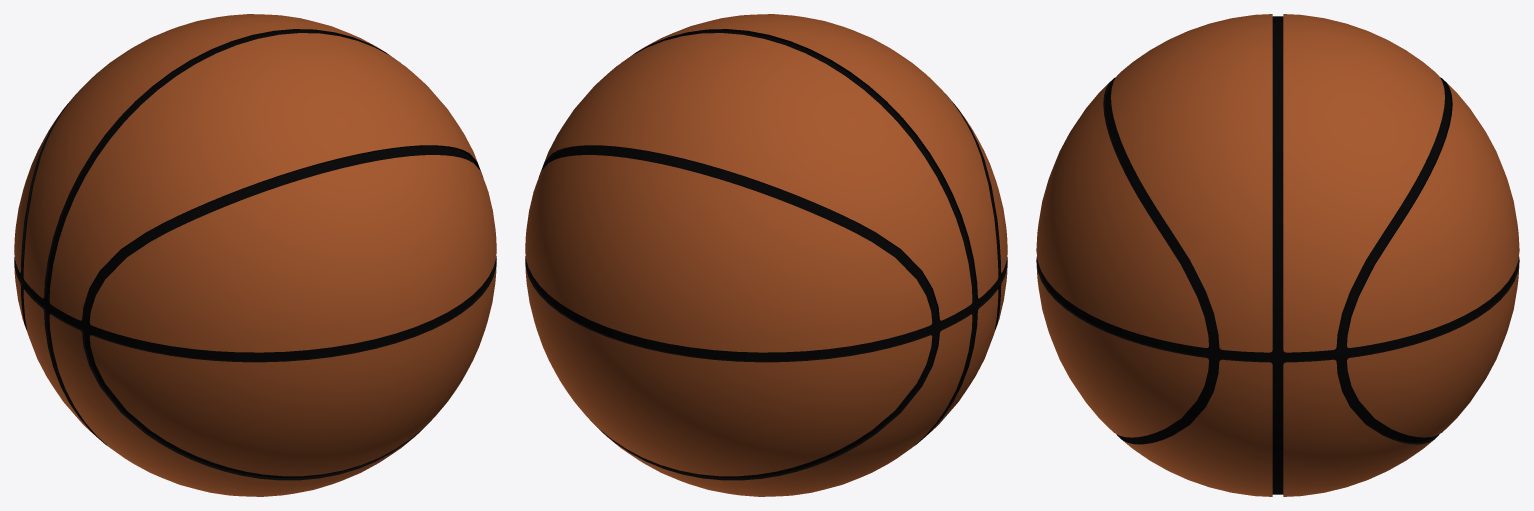
The model's file is Basketball.fbx.
3 views of the same model, side by side, from view 1: azimuth 30°, elevation 25°; view 2: azimuth 150°, elevation 25°; view 3: azimuth 270°, elevation 25° (orthographic).
Parts seen in each view (by area): view 1: Basketball; view 2: Basketball; view 3: Basketball.
Part boxes in pixels (bbox=[...]): Basketball: bbox=[14, 14, 496, 496]; Basketball: bbox=[525, 14, 1007, 496]; Basketball: bbox=[1036, 14, 1519, 496].
Bounding box in the file's own units: 0.3278 × 0.3282 × 0.3282.
